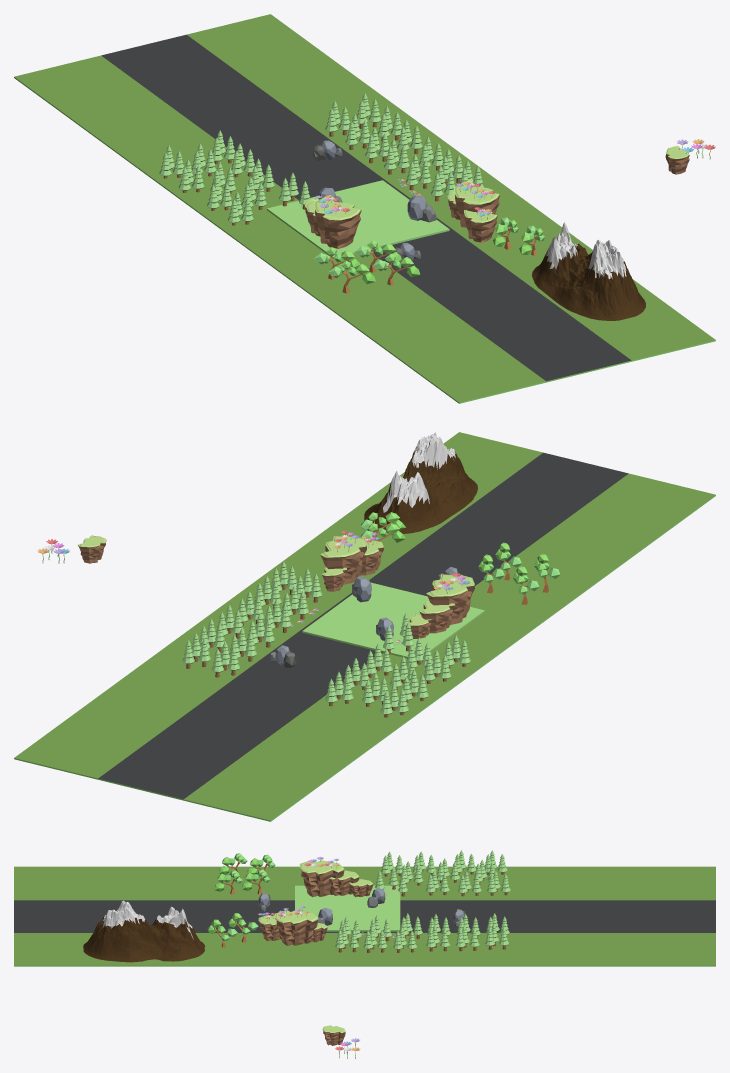
Rendered from Aset lengkap.fbx.
3 views of the same model, one above another, from view 1: azimuth 30°, elevation 25°; view 2: azimuth 150°, elevation 25°; view 3: azimuth 270°, elevation 25° (orthographic). The views are drawn at different scales.
Visible parts, largest first — view 1: Cube.003, Landscape, Cube, Plane.002, Plane.004; view 2: Cube.003, Landscape, Cube, Plane.004, Plane.002; view 3: Cube.003, Landscape, Cube, Plane.004, Plane.002, Plane.003, Cylinder.011, Cylinder.008, Cylinder.010, Cylinder.002, Cylinder.012, Cylinder.015 (+2 smaller).
Part boxes in pixels (<box>): Cube.003: <box>14,14,715,403</box>; Landscape: <box>532,222,645,320</box>; Cube: <box>267,180,449,258</box>; Plane.002: <box>447,180,500,242</box>; Plane.004: <box>304,195,361,248</box>; Cube.003: <box>14,432,715,821</box>; Landscape: <box>364,432,477,533</box>; Cube: <box>302,582,484,658</box>; Plane.004: <box>409,574,474,638</box>; Plane.002: <box>320,535,383,591</box>; Cube.003: <box>14,866,715,966</box>; Landscape: <box>83,900,204,962</box>; Cube: <box>295,885,400,931</box>; Plane.004: <box>299,860,373,897</box>; Plane.002: <box>258,910,327,945</box>; Plane.003: <box>322,1025,345,1045</box>; Cylinder.011: <box>455,925,479,951</box>; Cylinder.008: <box>363,927,387,952</box>; Cylinder.010: <box>426,925,449,951</box>; Cylinder.002: <box>335,926,358,952</box>; Cylinder.012: <box>485,923,508,949</box>; Cylinder.015: <box>458,871,481,896</box>.
Bounding box in the file's own units: 7226 × 1198 × 12054.
